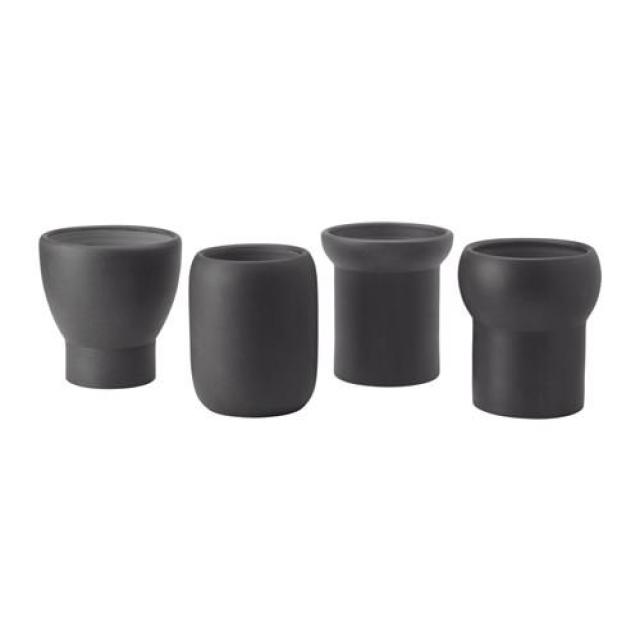plant pot: (457, 238, 603, 422), (36, 225, 182, 392), (188, 243, 317, 421), (320, 221, 454, 390)
